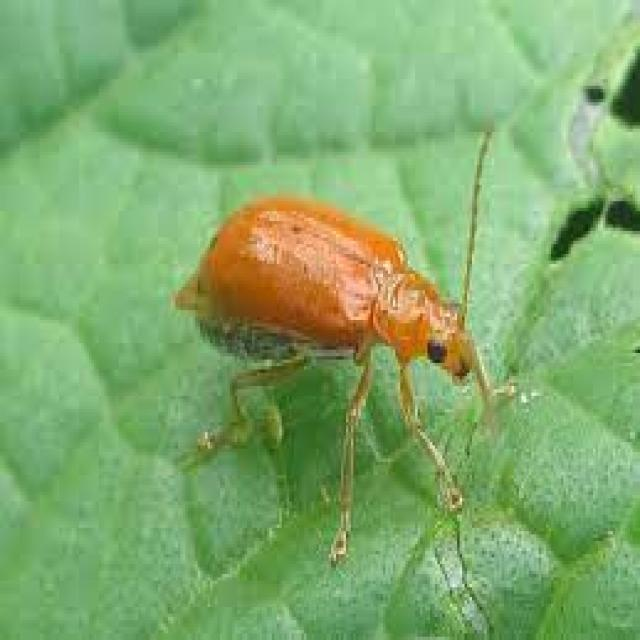Pumpkin Beetle: (160, 111, 535, 566)
